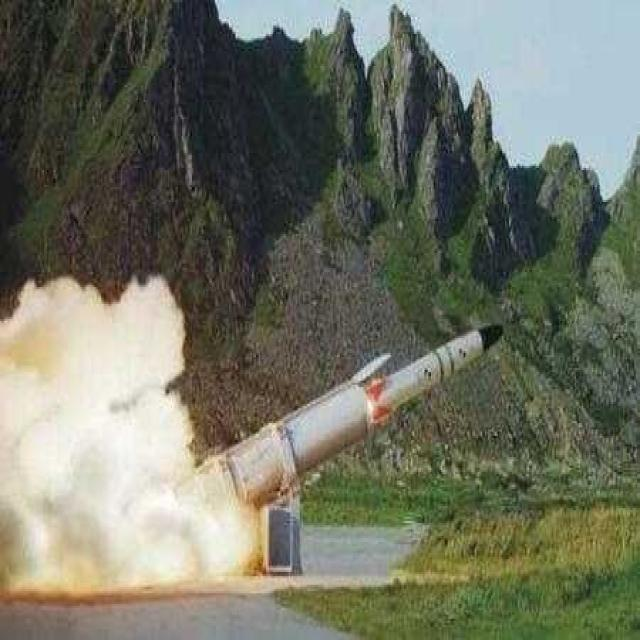missile: (185, 313, 508, 537)
